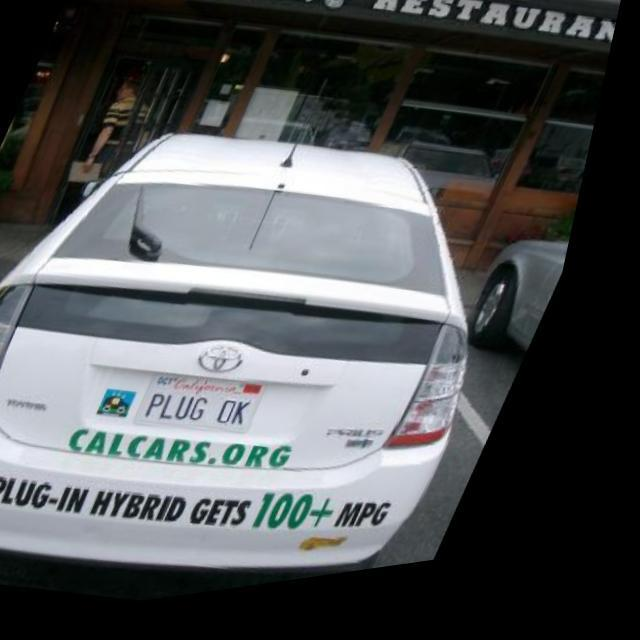license_plate: (146, 364, 294, 457)
